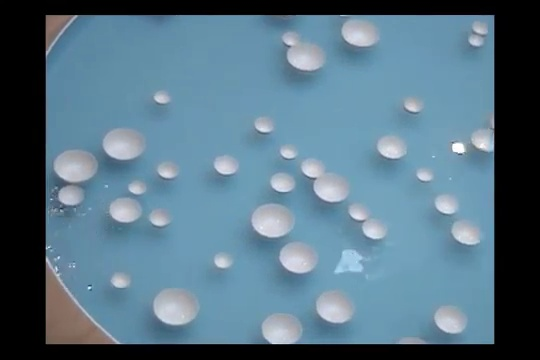bowl: (152, 285, 200, 327), (250, 202, 298, 239), (101, 125, 150, 161), (52, 149, 99, 185), (315, 286, 355, 326), (277, 241, 322, 275), (259, 311, 306, 343), (285, 41, 327, 73), (340, 18, 380, 48), (433, 303, 469, 335), (312, 174, 350, 203), (450, 219, 486, 246), (108, 196, 144, 223), (375, 134, 410, 161), (57, 185, 90, 208), (468, 127, 495, 154), (212, 154, 241, 176), (433, 192, 459, 216), (361, 217, 388, 239), (211, 249, 237, 271), (269, 171, 296, 192), (148, 208, 174, 228), (156, 161, 182, 180), (403, 94, 425, 116), (348, 201, 372, 221), (109, 270, 134, 289), (301, 159, 325, 178), (126, 179, 151, 196), (254, 116, 275, 135), (280, 29, 301, 47), (415, 166, 436, 183), (279, 143, 300, 160), (394, 334, 426, 345), (471, 19, 489, 36), (153, 90, 173, 105), (467, 33, 485, 49)
